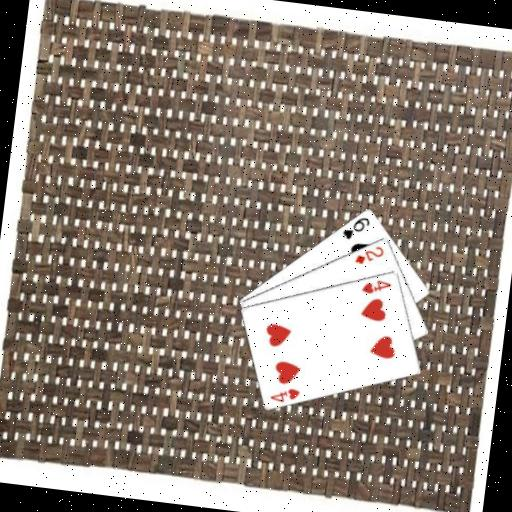2D: (352, 241, 387, 269)
4H: (358, 275, 394, 298), (267, 383, 303, 406)
6S: (339, 212, 372, 244)
